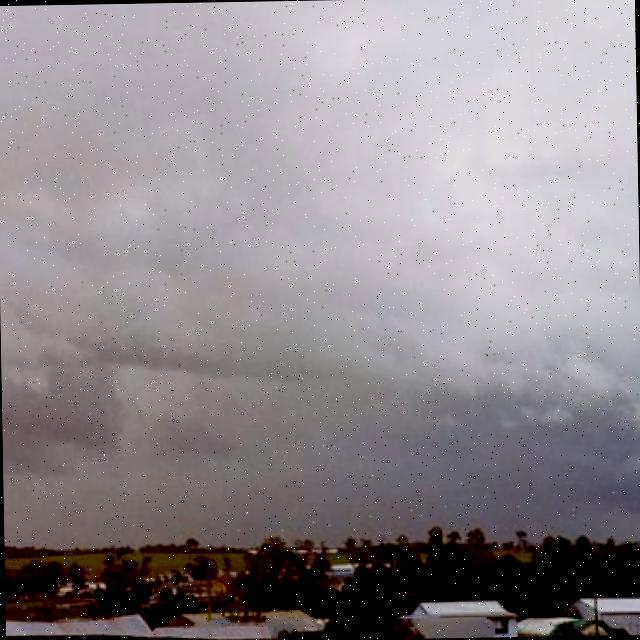Ns: (1, 1, 640, 489)
